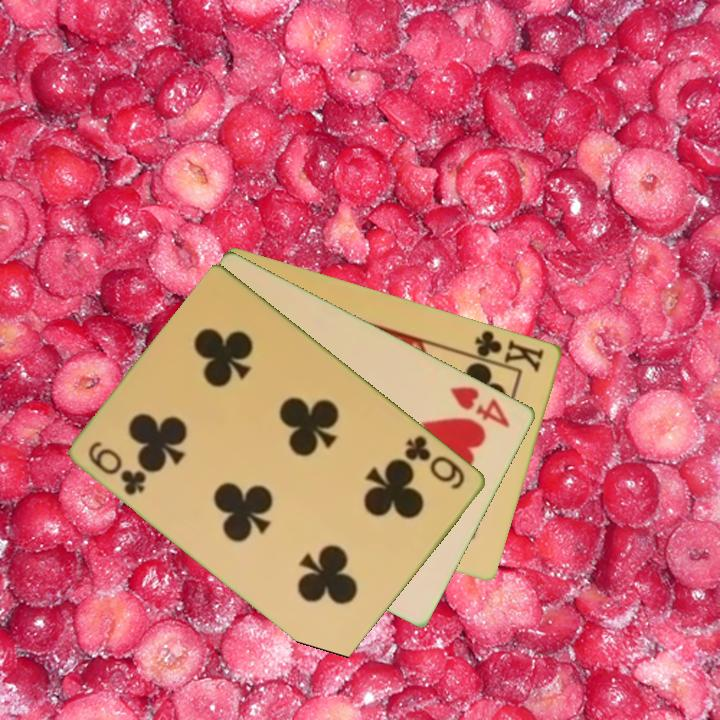4h: (447, 382, 514, 431)
6c: (401, 432, 469, 493), (85, 437, 150, 499)
Kc: (465, 326, 548, 374)
